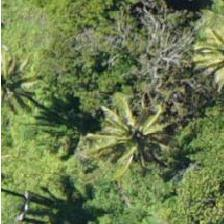Kelapa_Sawit: (93, 89, 183, 179), (0, 36, 50, 126)
